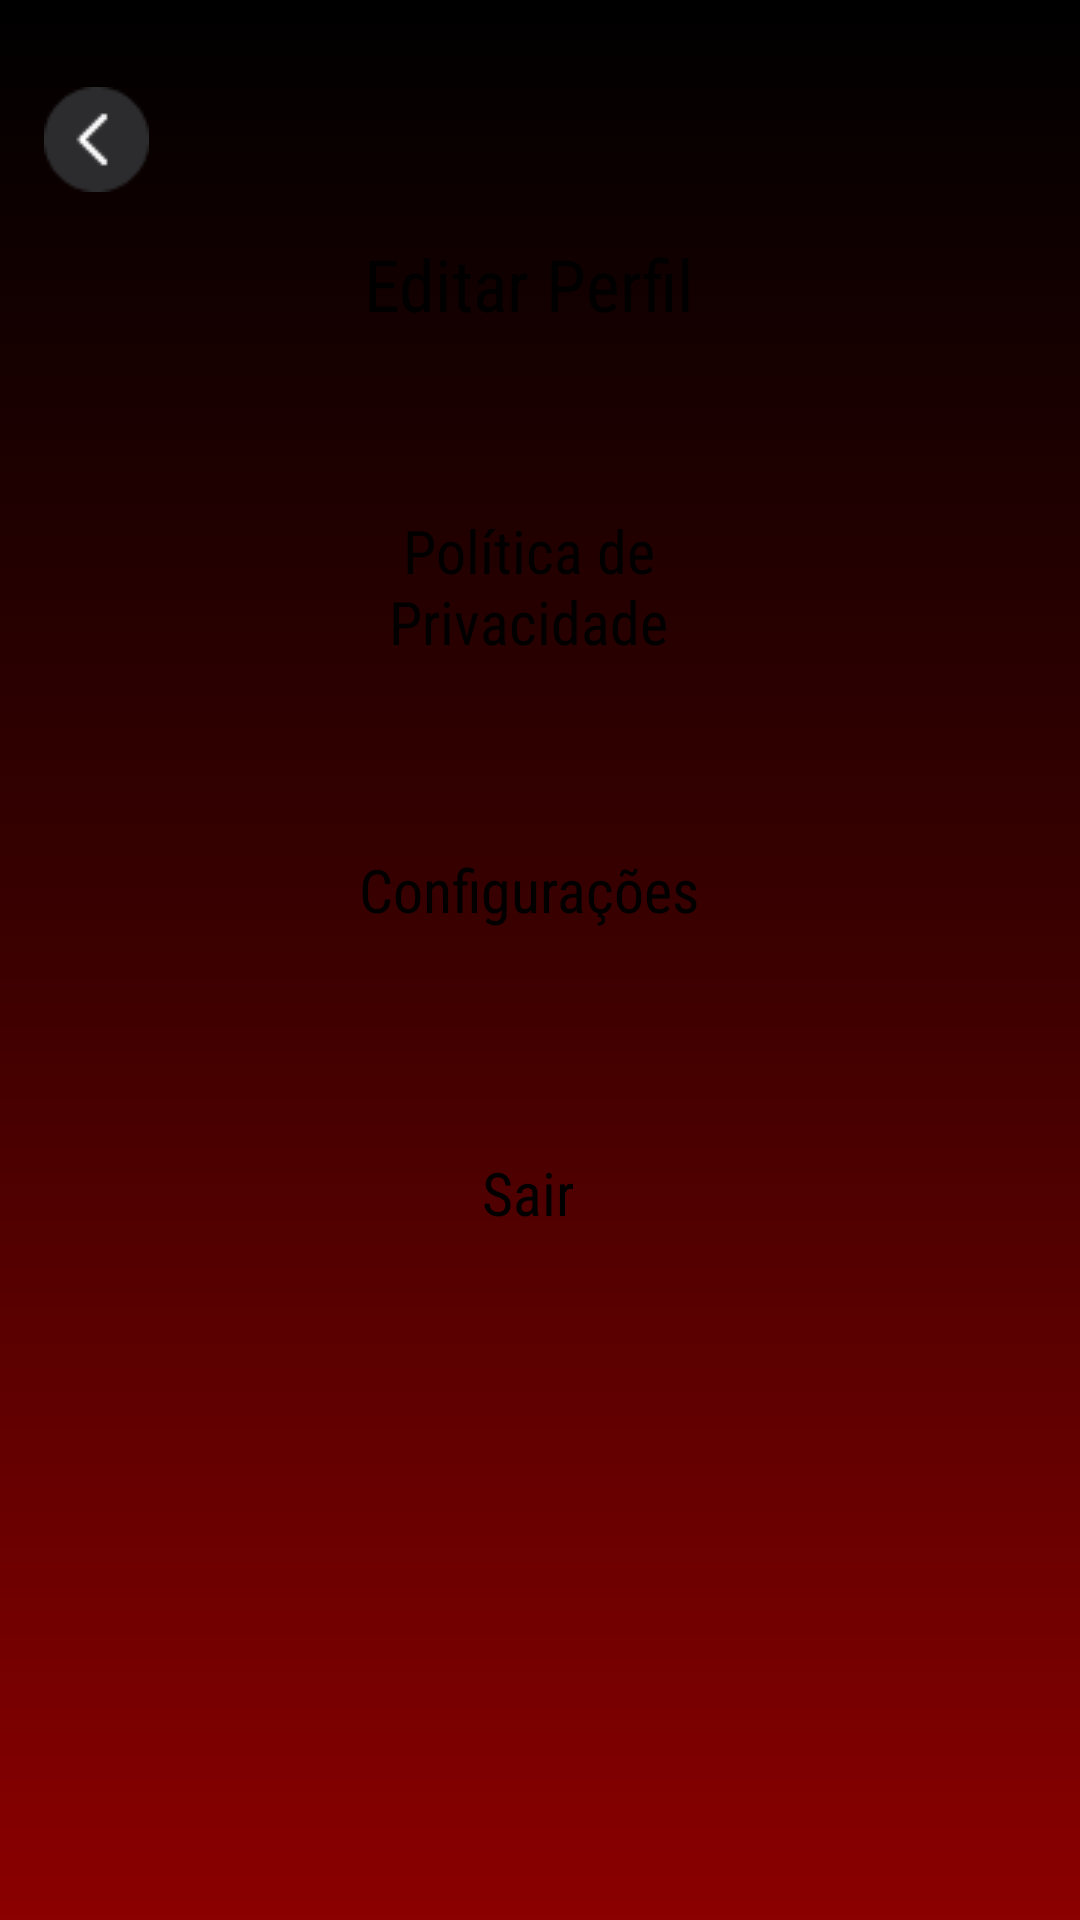

Icons on this 1080 × 1920 Android screen, each with its box as (x1, y1, x2, y2):
circle left: (44, 87, 149, 192)
